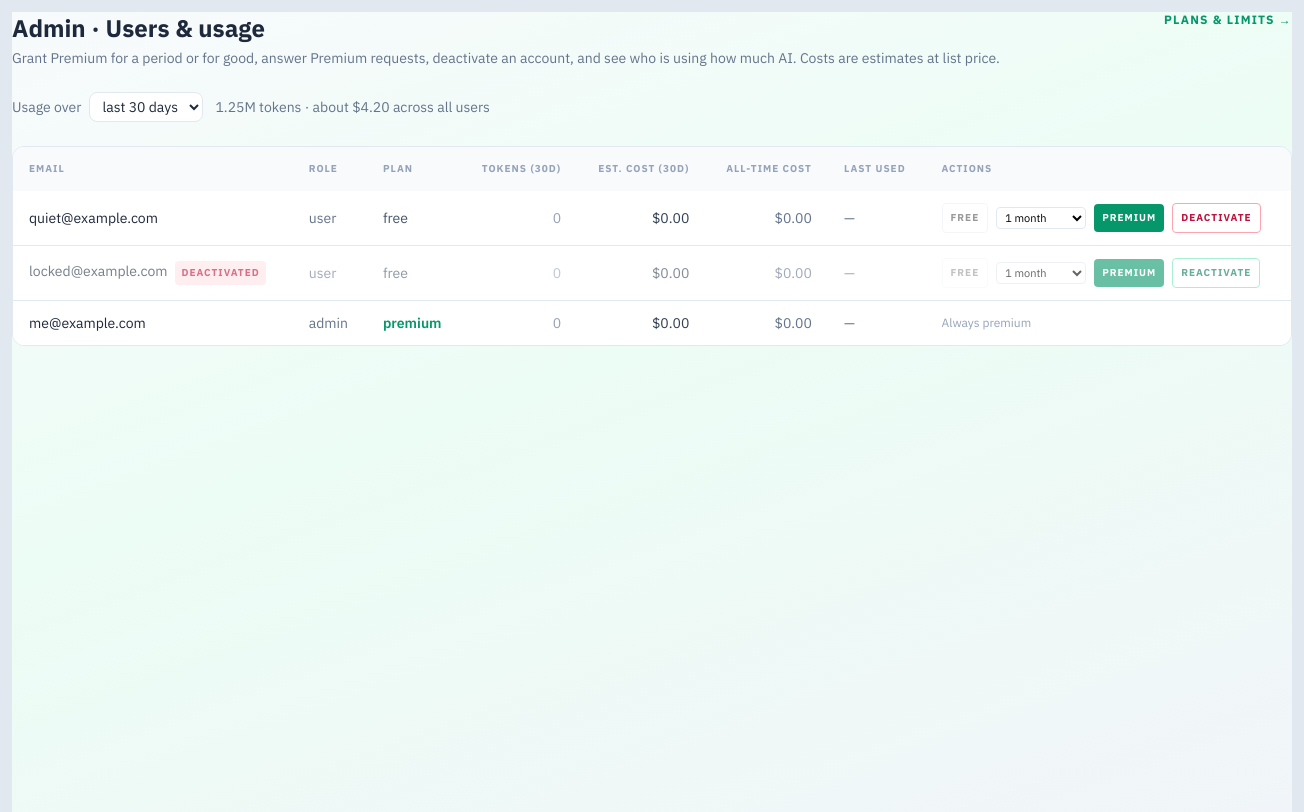
AdminUsersPage deactivation › reactivates a deactivated account without asking
Expected: the text "Deactivated" is shown, [176,261,266,285]
Click the button with aria-label "Reactivate locked@example.com".
click(1216, 273)  # box [1172,258,1260,288]
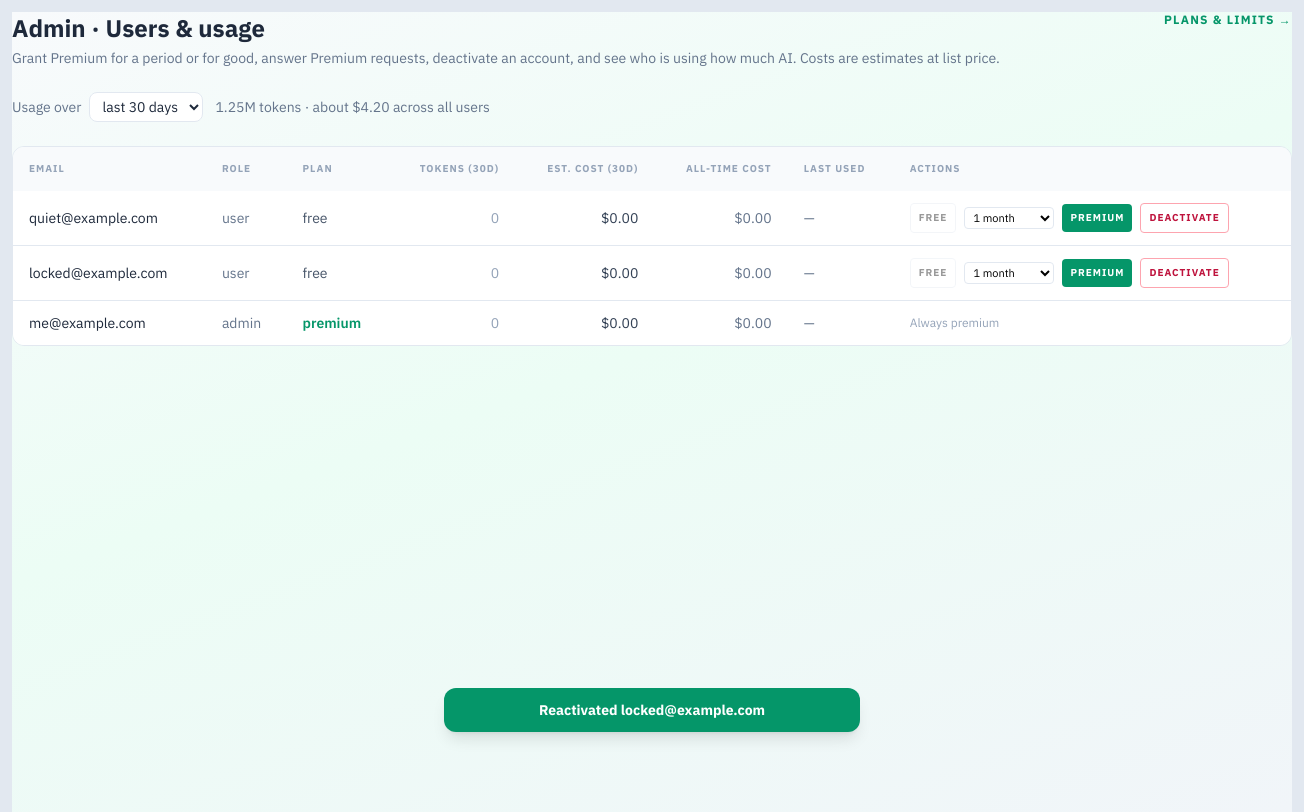
Result: the button with aria-label "Deactivate locked@example.com" is shown at [1140,258,1229,288]
